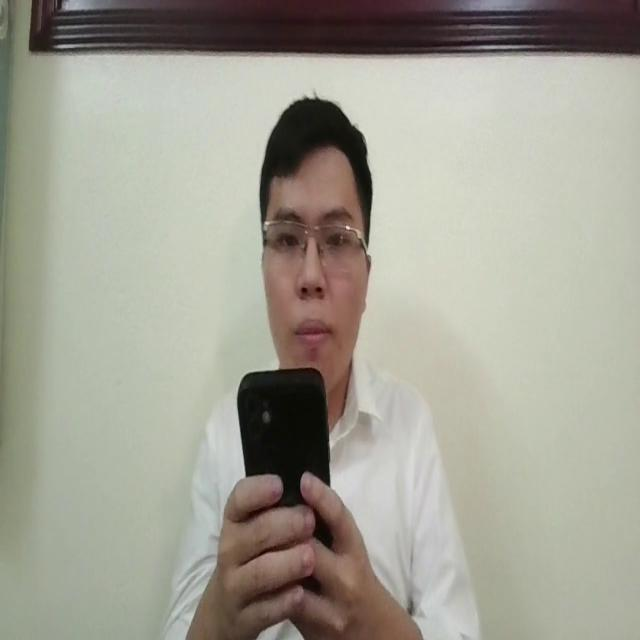phone: (237, 353, 334, 540)
student: (159, 92, 482, 640)
